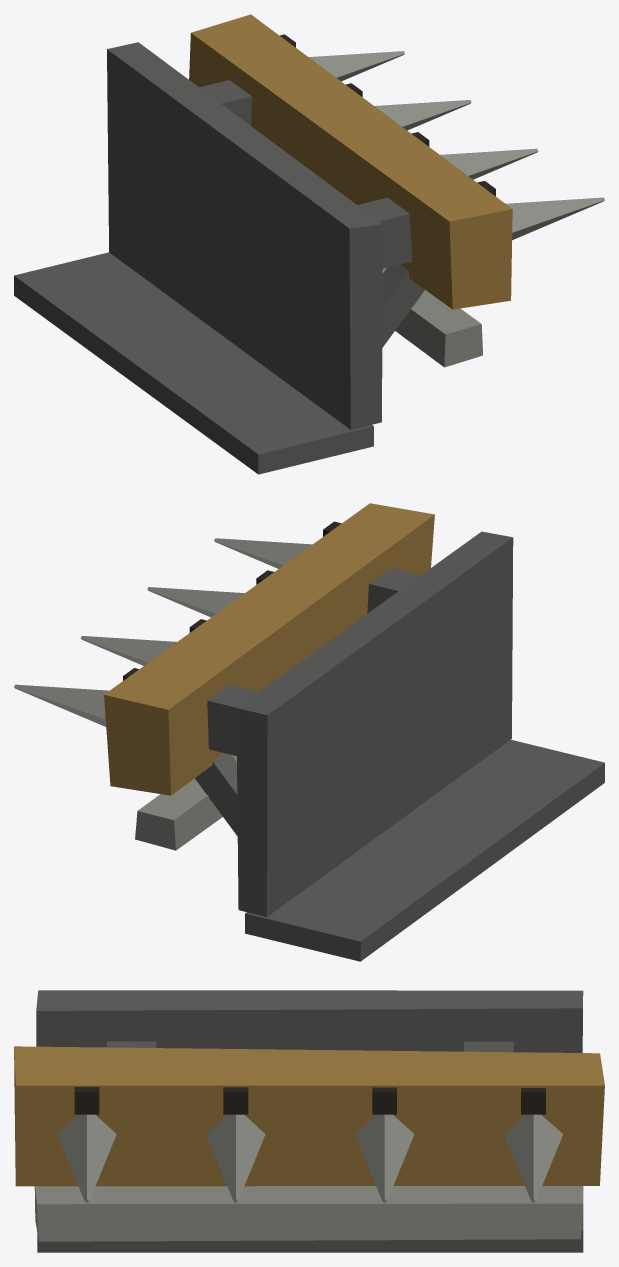
Rendered from arm_ram.glb.
3 renders of one model, top to bottom at view 1: azimuth 30°, elevation 25°; view 2: azimuth 150°, elevation 25°; view 3: azimuth 270°, elevation 25°, orthographic. The views are drawn at different scales.
Visible parts, largest first — view 1: arm_ram; view 2: arm_ram; view 3: arm_ram.
Boxes of the visible parts, x1,y1,x2,y2 form: arm_ram: [14, 14, 604, 474]; arm_ram: [14, 503, 604, 961]; arm_ram: [14, 990, 604, 1252].
Bounding box in the file's own units: 0.955 × 0.5556 × 1.19.
